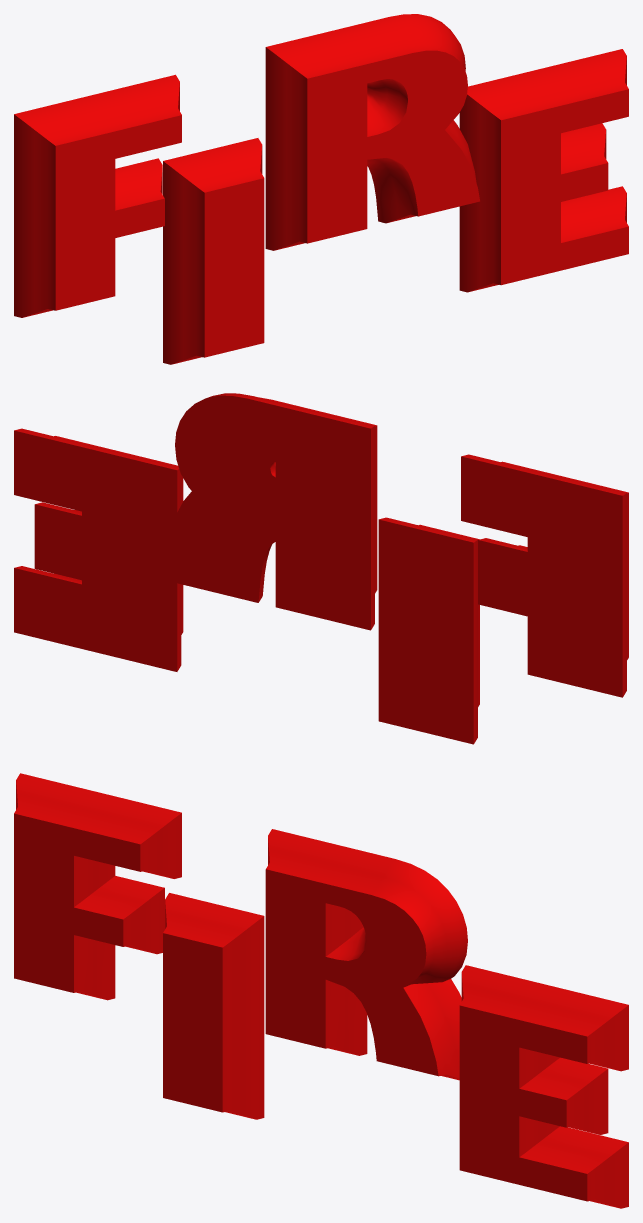
File: fire.fbx
3 renders of one model, top to bottom at view 1: azimuth 30°, elevation 25°; view 2: azimuth 150°, elevation 25°; view 3: azimuth 330°, elevation 25°, orthographic.
Visible parts, largest first — view 1: typeMesh1; view 2: typeMesh1; view 3: typeMesh1.
Part boxes in pixels (x1=…): typeMesh1: x1=14, y1=14, x2=628, y2=364; typeMesh1: x1=14, y1=393, x2=628, y2=744; typeMesh1: x1=14, y1=773, x2=628, y2=1208.
Size of the model in its own units: 36.71 by 16.76 by 2.5.
